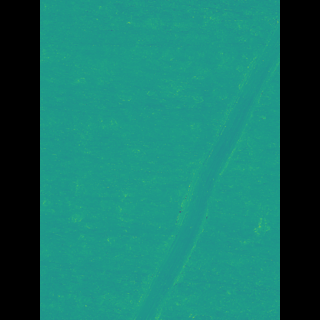Loch: (136, 16, 250, 320)
